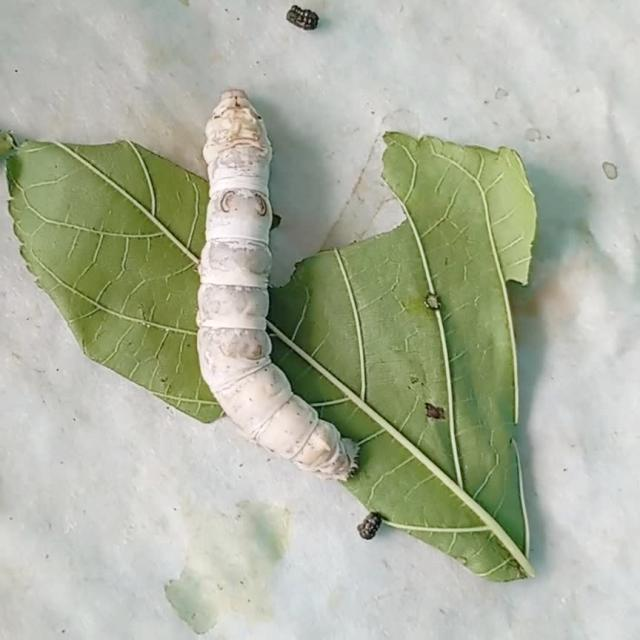Grasserie: (170, 55, 422, 506)
